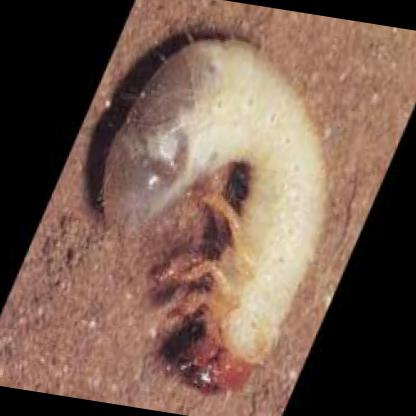root grubs: (103, 37, 330, 395)
